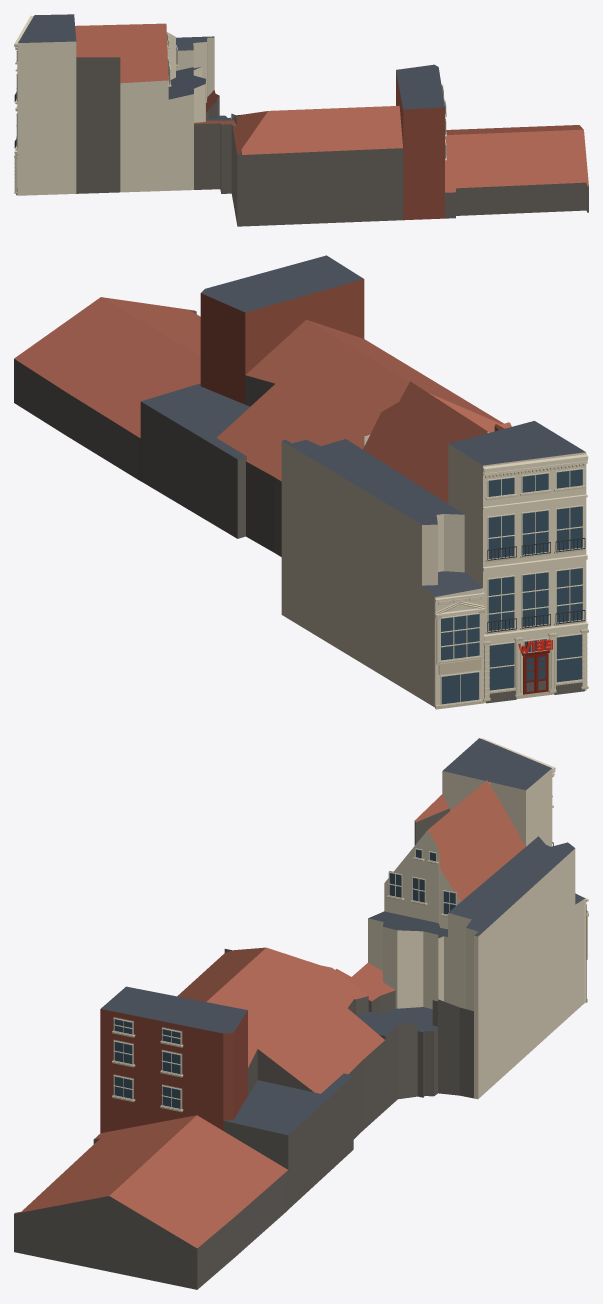
3 renders of one model, top to bottom at view 1: azimuth 30°, elevation 25°; view 2: azimuth 150°, elevation 25°; view 3: azimuth 270°, elevation 25°, orthographic. The views are drawn at different scales.
Parts seen in each view (by area): view 1: w139; view 2: w139; view 3: w139.
Part boxes in pixels (x1=…): w139: x1=14, y1=14, x2=588, y2=226; w139: x1=14, y1=255, x2=588, y2=709; w139: x1=14, y1=738, x2=588, y2=1289.
Size of the model in its own units: 64.55 by 20.23 by 47.27.
